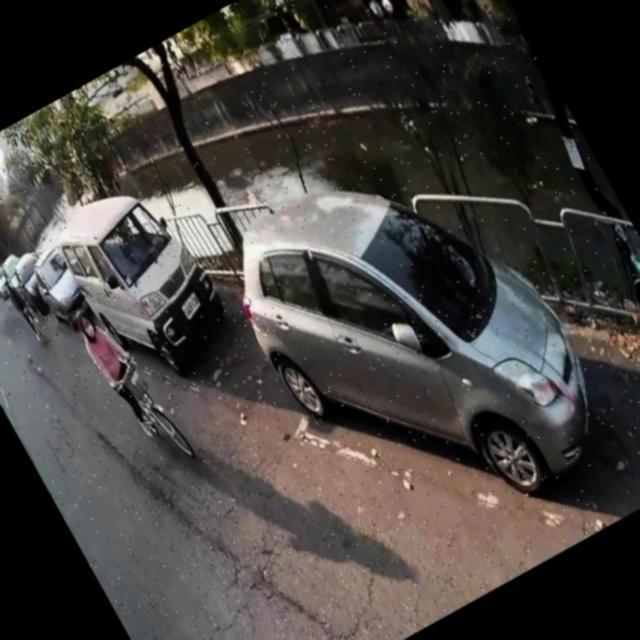person: (68, 296, 176, 447), (1, 274, 49, 344)
